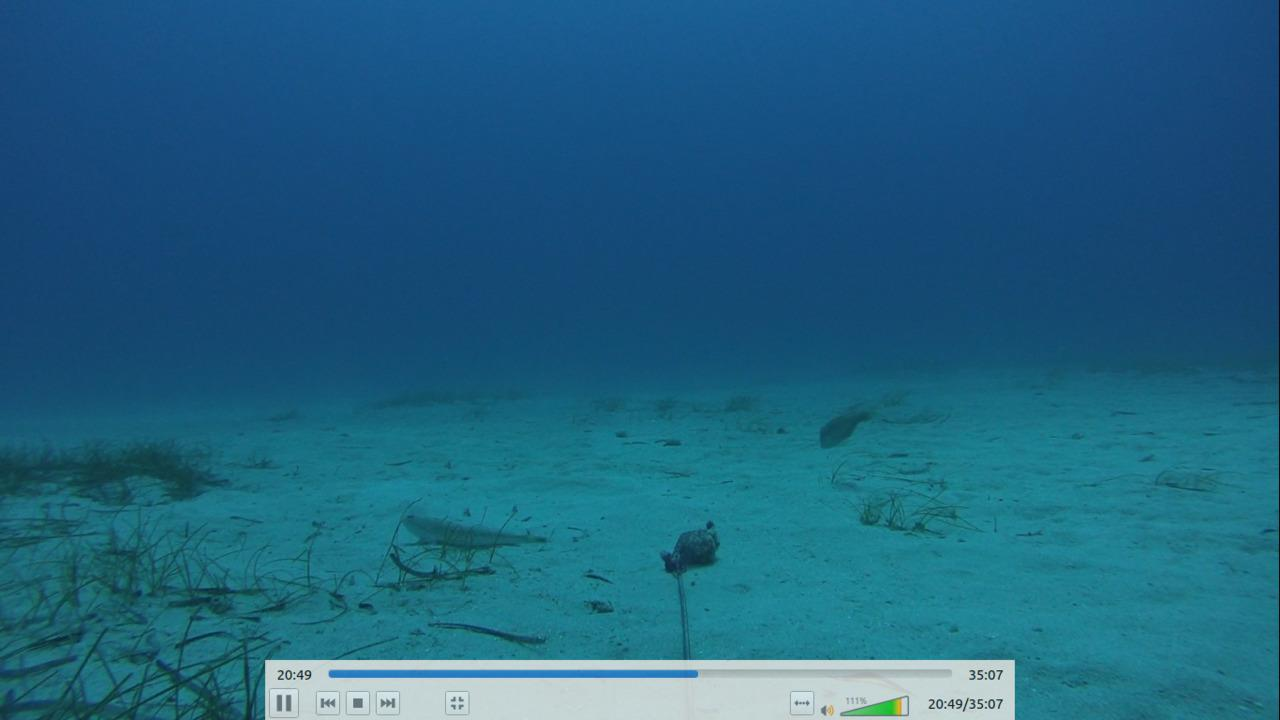raor: (817, 403, 872, 447)
